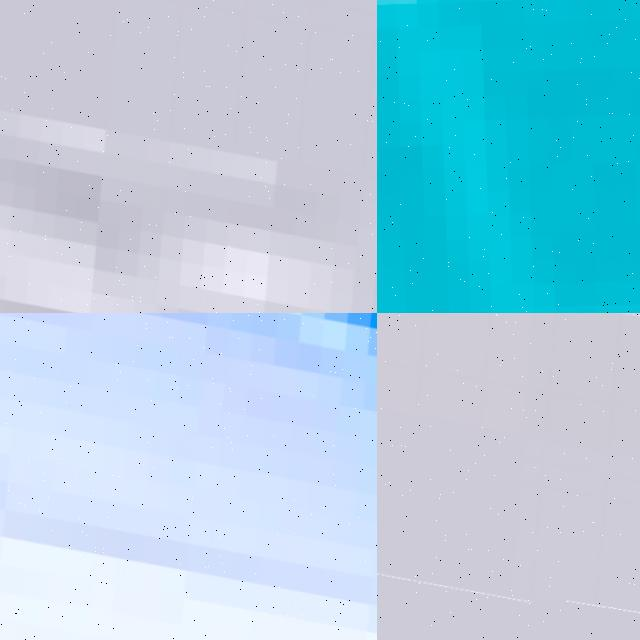drone: (0, 313, 377, 640), (0, 0, 377, 313), (377, 313, 640, 616)
